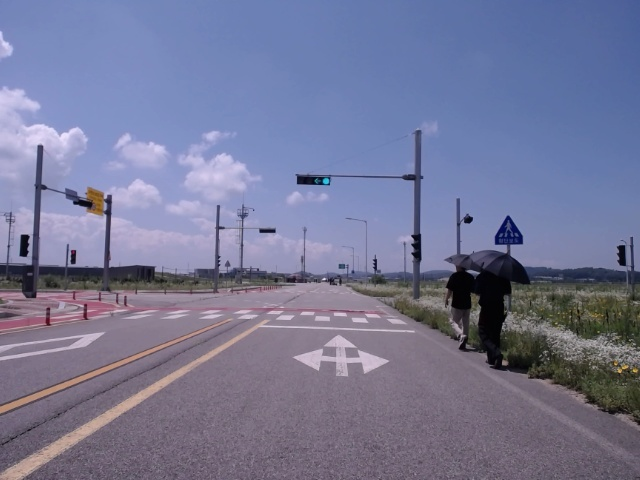all_green_4: (298, 174, 332, 185)
